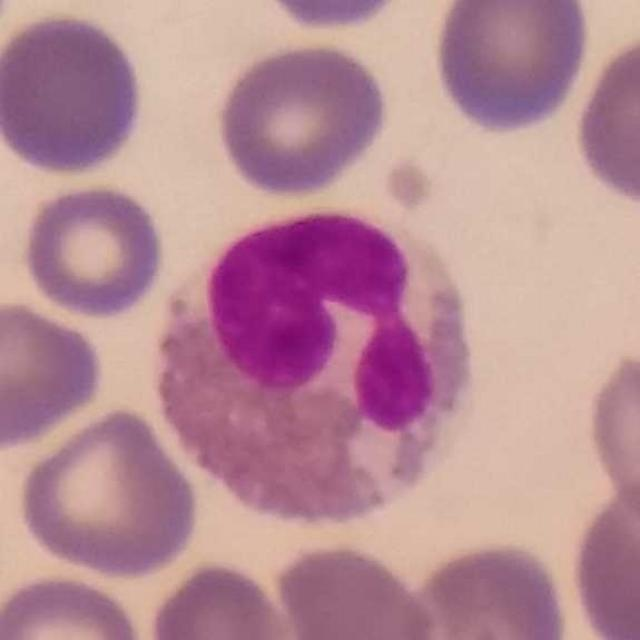Eosinophil: (157, 172, 477, 536)
RBC: (13, 403, 204, 581), (212, 38, 393, 201), (0, 8, 149, 179), (428, 0, 594, 137), (18, 179, 169, 321), (394, 535, 575, 640), (269, 537, 443, 640), (0, 295, 109, 454), (143, 556, 301, 640), (570, 25, 640, 212), (565, 472, 640, 640), (581, 344, 640, 532), (0, 570, 150, 640), (252, 0, 418, 35)
